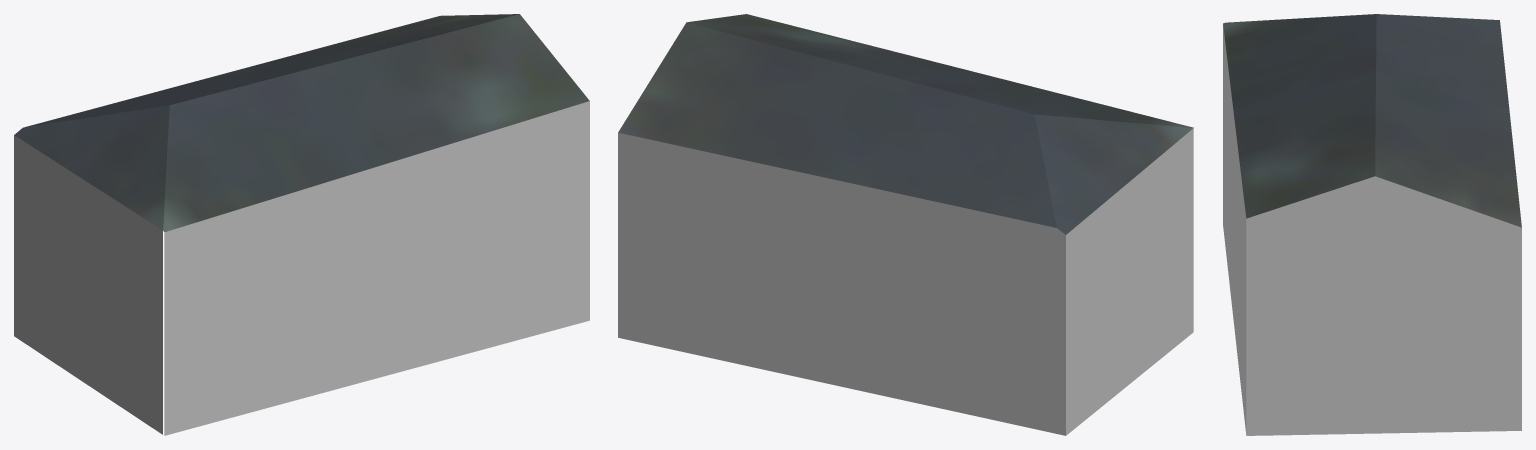
File: DEBW_0010007Txc4.gltf
3 renders of one model, left to right at view 1: azimuth 30°, elevation 25°; view 2: azimuth 150°, elevation 25°; view 3: azimuth 270°, elevation 25°, orthographic.
Visible parts, largest first — view 1: Z_UP; view 2: Z_UP; view 3: Z_UP.
Boxes of the visible parts, x1,y1,x2,y2 form: Z_UP: [14, 14, 589, 435]; Z_UP: [618, 14, 1193, 435]; Z_UP: [1223, 14, 1521, 435].
Size of the model in its own units: 5.92 by 3.29 by 3.46.
Materials: 2 (1 with a texture image).
